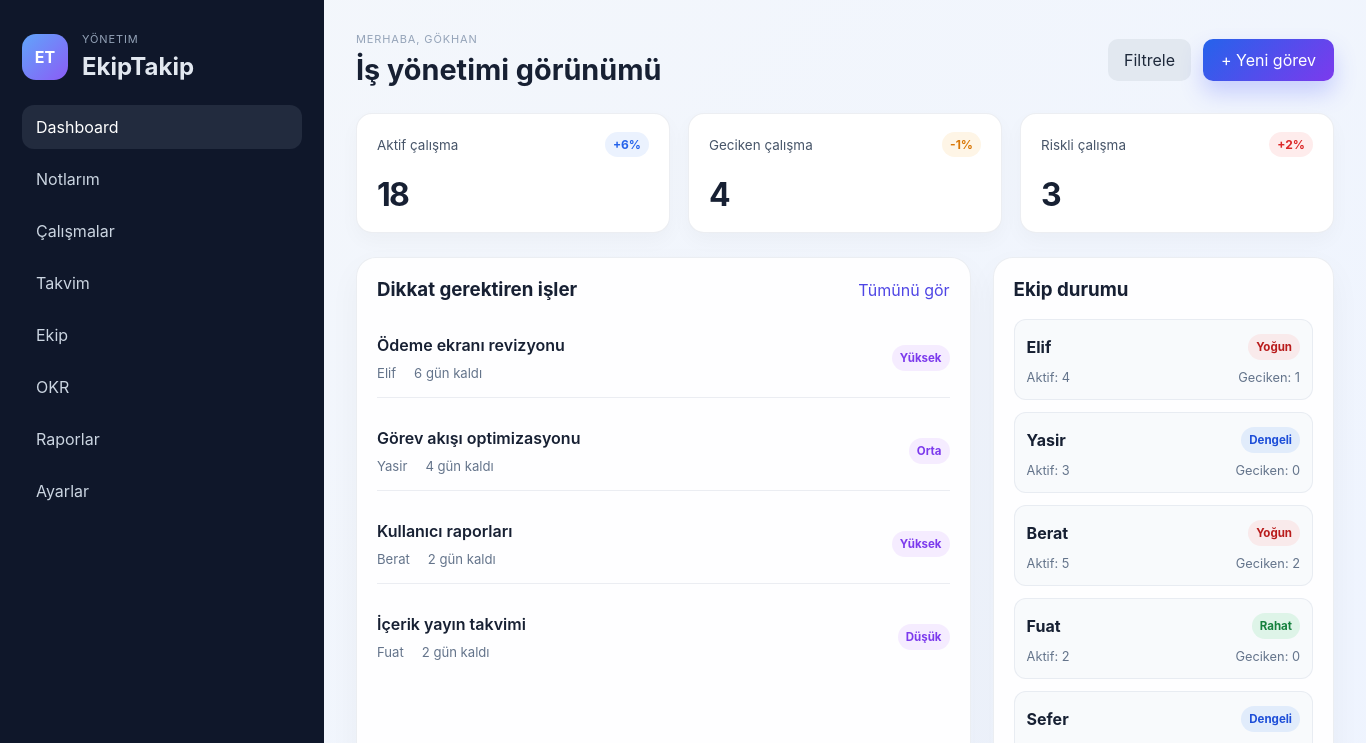
it: renders tasks page with filters and deadline status
Step 1. Click the button "Çalışmalar" → [75, 231], box left=22, top=209, right=302, bottom=253
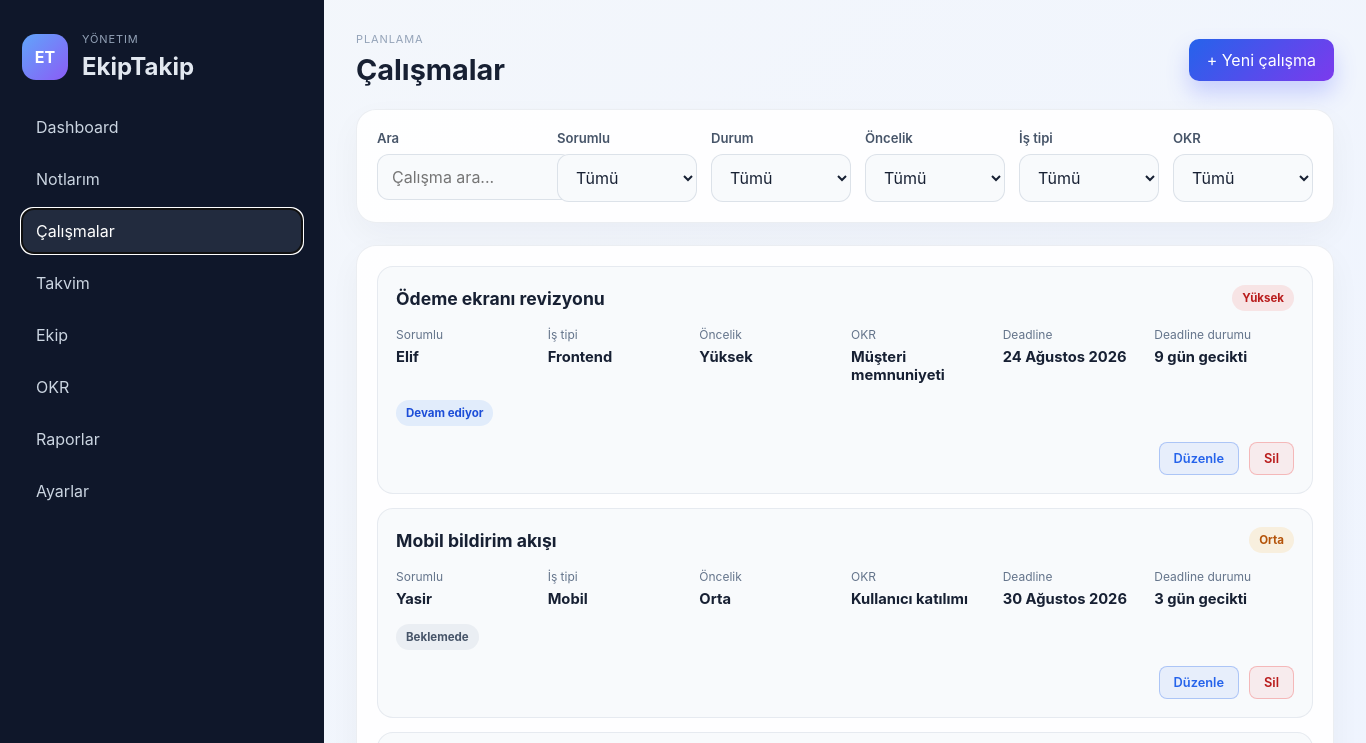
Check: the heading "Çalışmalar" is shown, box left=356, top=52, right=505, bottom=87
Check: the button "+ Yeni çalışma" is shown, box left=1189, top=38, right=1334, bottom=80
Check: the field labelled "Ara" is shown, box left=377, top=154, right=573, bottom=200
